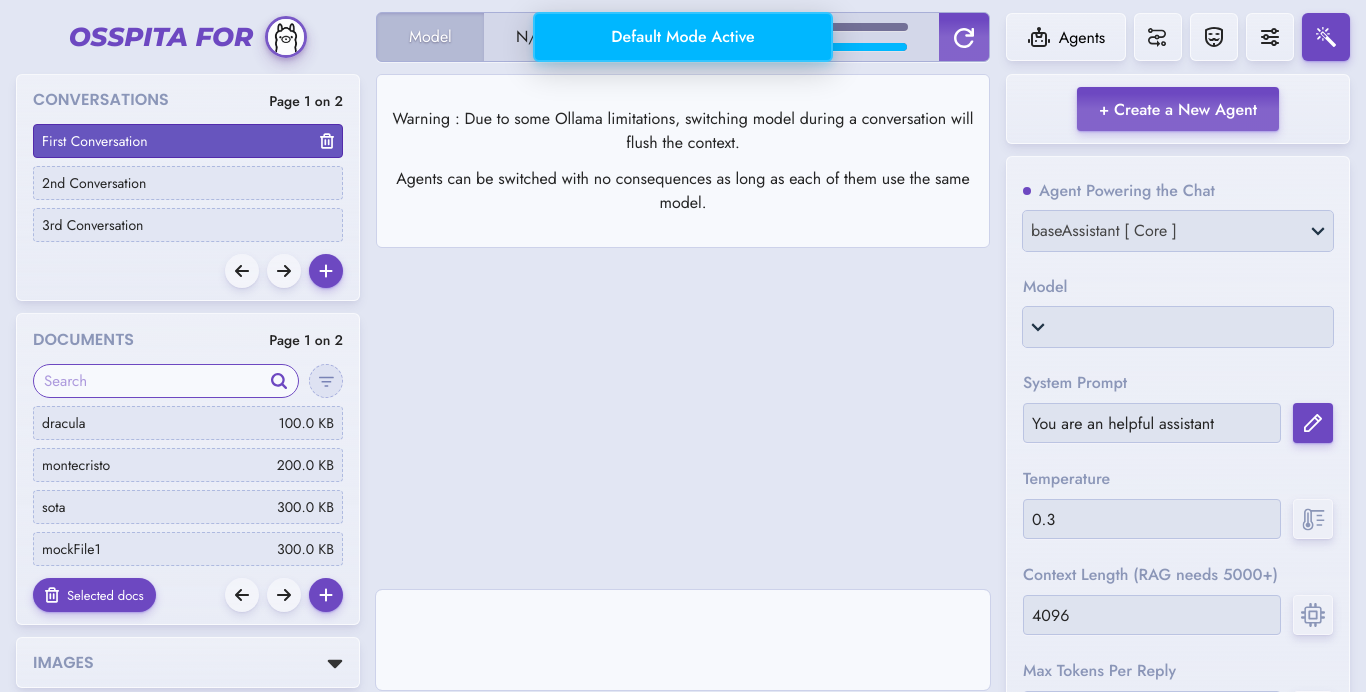
Test: Given I am on the Chat page › Next page / Previous page buttons are working
Expected: the text "First Conversation" is shown, 42,131 -> 148,151
Expected: the button "2nd Conversation" is shown, 33,166 -> 343,200
Click the button titled "next page" below "CONVERSATIONS" at [284, 271], box 267,254 -> 301,288
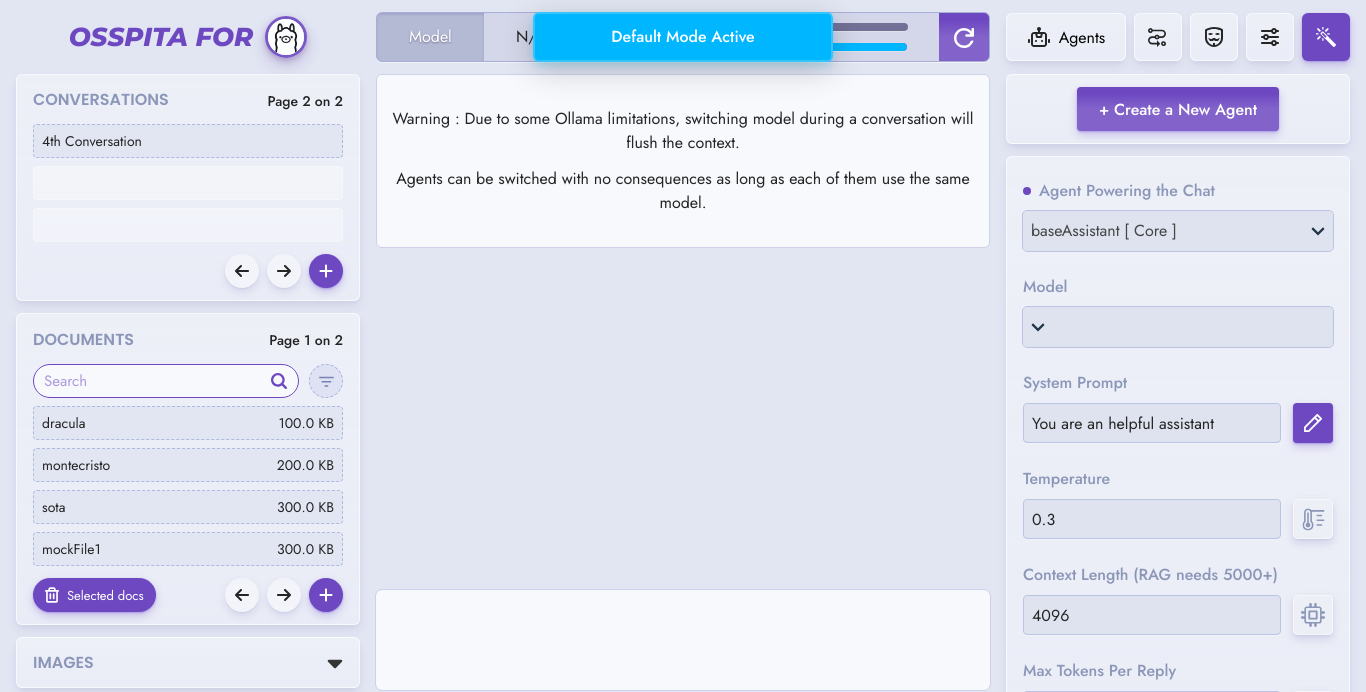
Expected: the button "4th Conversation" is shown, 33,124 -> 343,158
Click the button titled "previous page" below "CONVERSATIONS" at [242, 271], box 225,254 -> 259,288
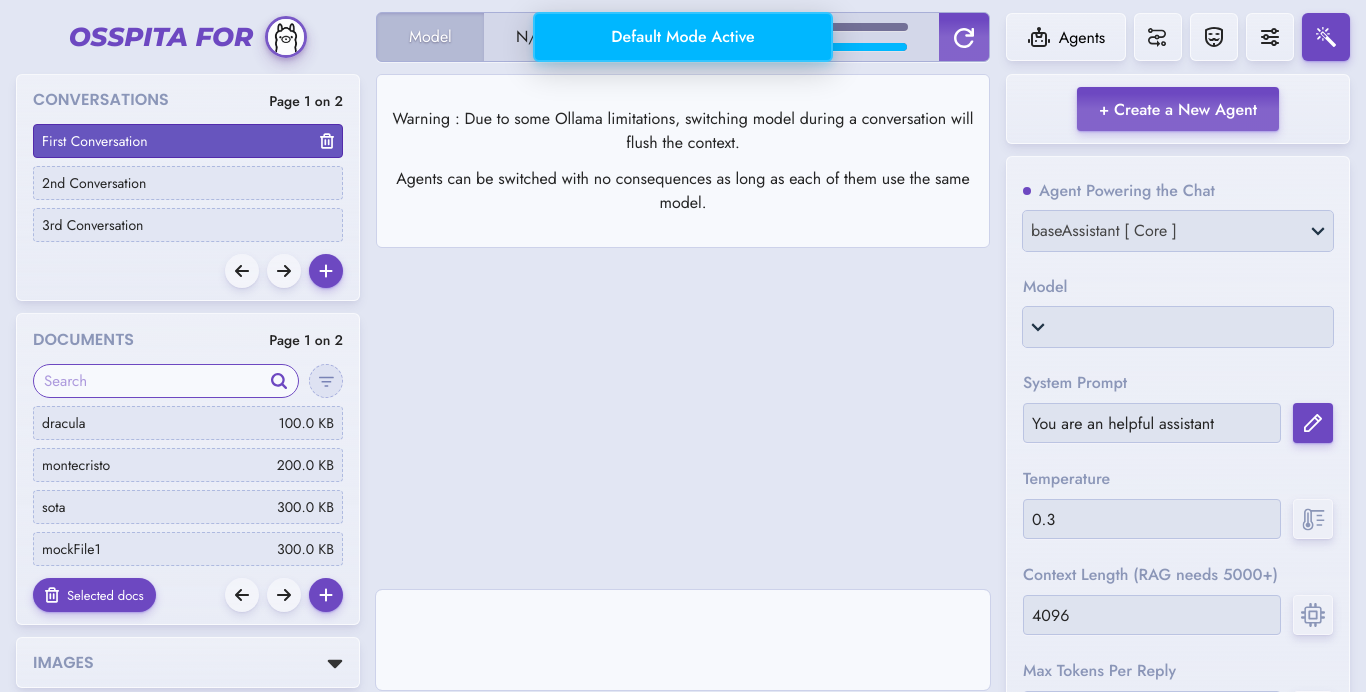
Expected: the text "First Conversation" is shown, 42,131 -> 148,151
